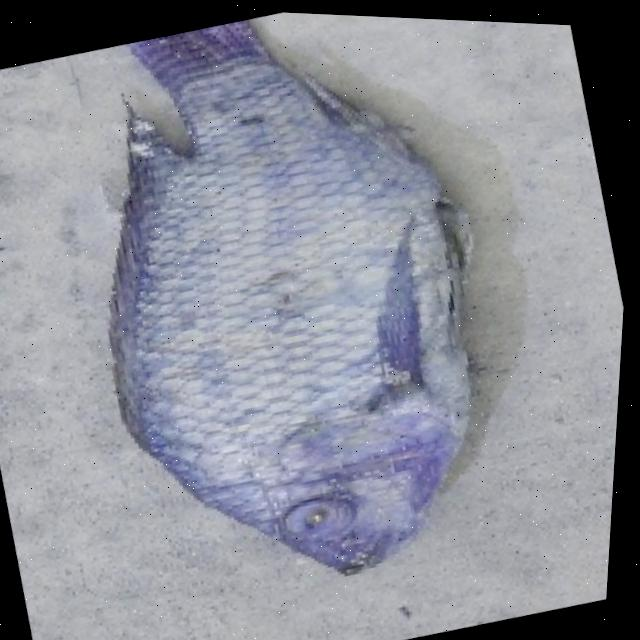Non-Fresh: (31, 2, 556, 629)
